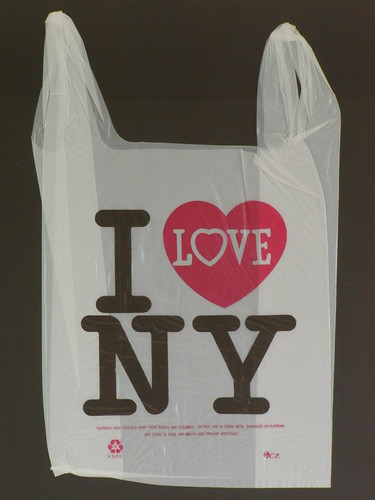kantong: (31, 10, 342, 491)
